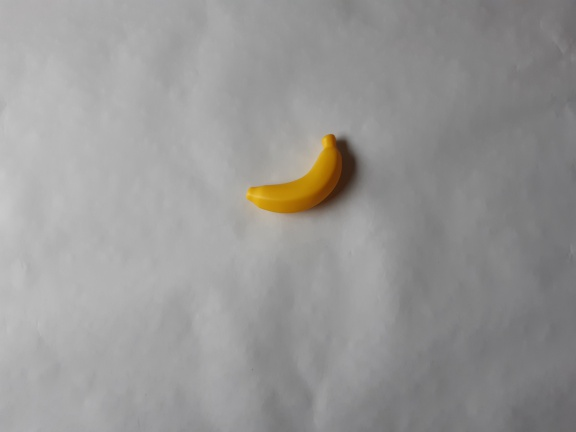banana: (238, 129, 348, 220)
